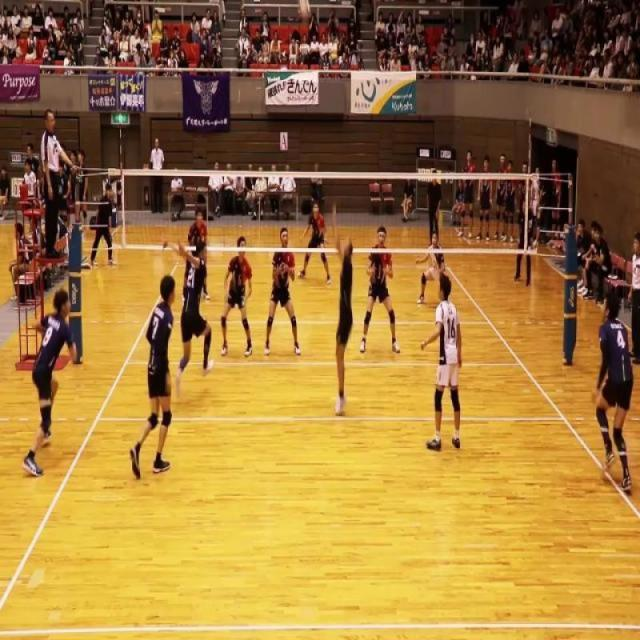volleyball: (297, 0, 312, 19)
